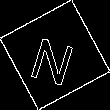N_N: (29, 25, 81, 85)
